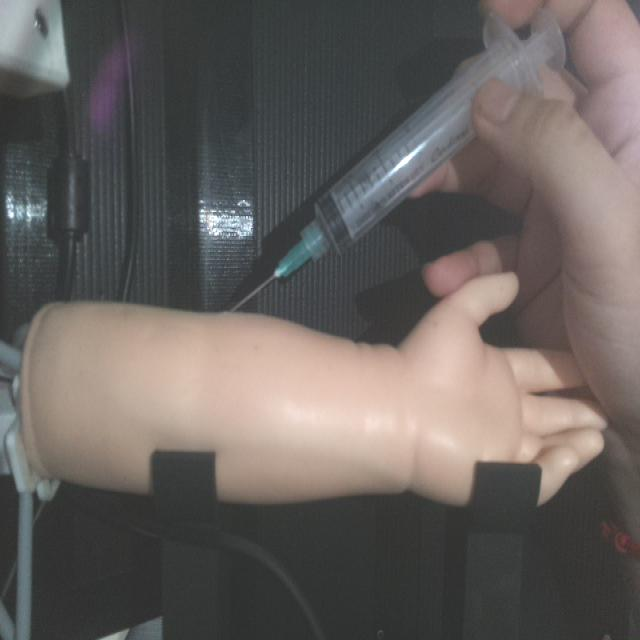Above 30 degrees: (226, 8, 568, 320)
